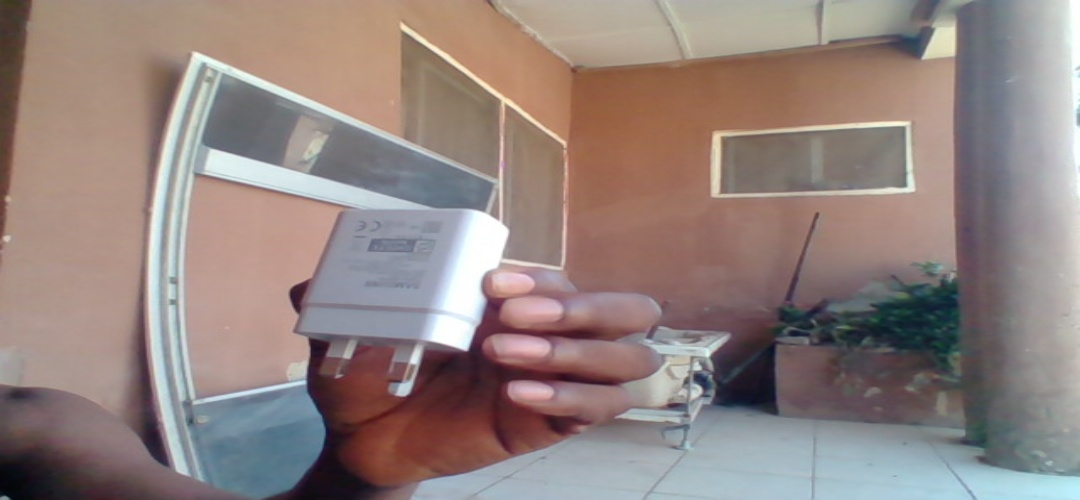phone_charger: (290, 189, 516, 405)
